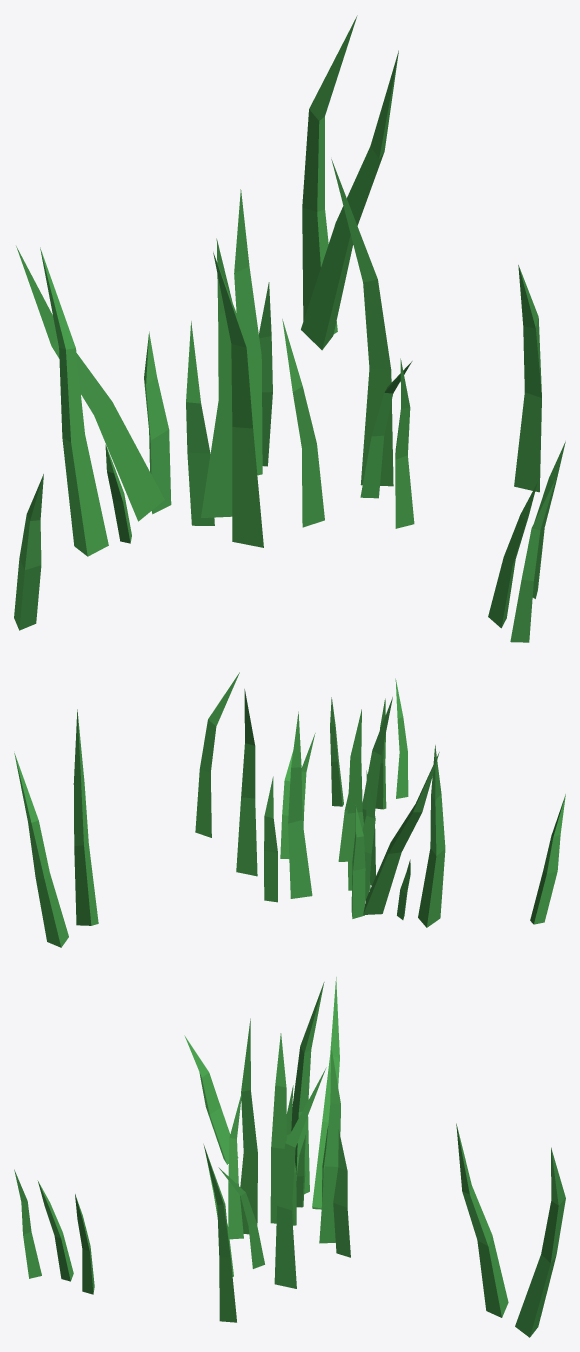
File: grass_green_1.glb
3 views of the same model, one above another, from view 1: azimuth 30°, elevation 25°; view 2: azimuth 150°, elevation 25°; view 3: azimuth 270°, elevation 25° (orthographic). The views are drawn at different scales.
Visible parts, largest first — view 1: group1029047492; view 2: group1029047492; view 3: group1029047492.
Part boxes in pixels (x1,y1,x2,y2): group1029047492: [14, 15, 565, 642]; group1029047492: [14, 672, 565, 947]; group1029047492: [14, 977, 565, 1337].
Size of the model in its own units: 0.5019 by 0.2648 by 0.6004.
